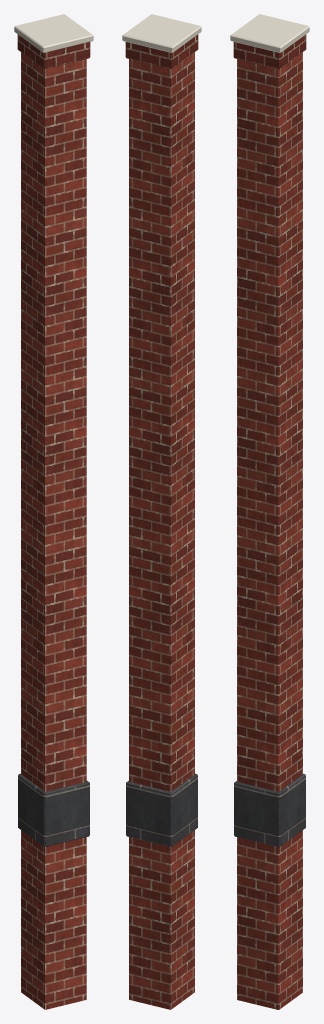
The model's file is a_pier.glb.
The picture shows the model from 3 angles, left to right: view 1: azimuth 30°, elevation 25°; view 2: azimuth 150°, elevation 25°; view 3: azimuth 330°, elevation 25°; orthographic projection.
Parts seen in each view (by area): view 1: a_pier_brick, a_pier_plinth, a_pier_coping, a_pier_brick2; view 2: a_pier_brick, a_pier_plinth, a_pier_coping, a_pier_brick2; view 3: a_pier_brick, a_pier_plinth, a_pier_coping, a_pier_brick2.
Boxes of the visible parts, x1,y1,x2,y2 form: a_pier_brick: (21, 52, 86, 1009); a_pier_plinth: (18, 773, 89, 847); a_pier_coping: (14, 14, 93, 52); a_pier_brick2: (17, 34, 90, 69); a_pier_brick: (129, 52, 194, 1009); a_pier_plinth: (126, 773, 197, 847); a_pier_coping: (122, 14, 201, 52); a_pier_brick2: (125, 34, 198, 69); a_pier_brick: (237, 52, 302, 1009); a_pier_plinth: (234, 773, 305, 847); a_pier_coping: (230, 14, 309, 52); a_pier_brick2: (233, 34, 306, 69).
Size of the model in its own units: 0.67 by 12.12 by 0.67.
4 materials, 3 textured.
